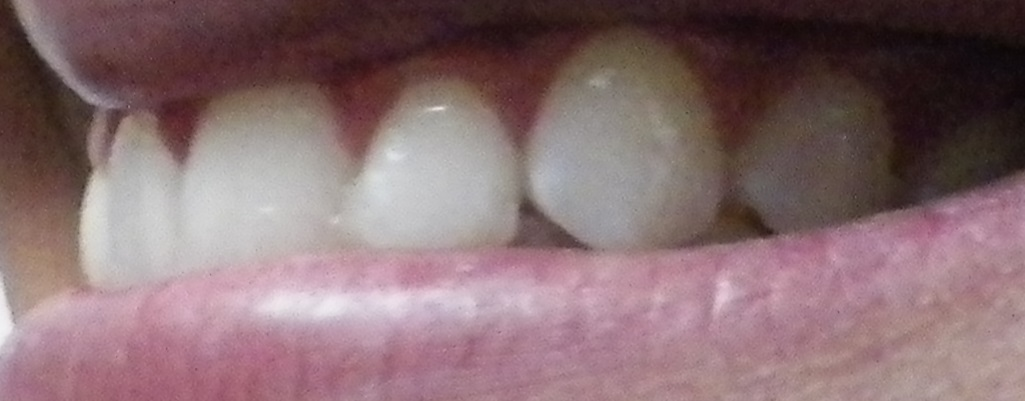boca: (49, 29, 957, 259)
